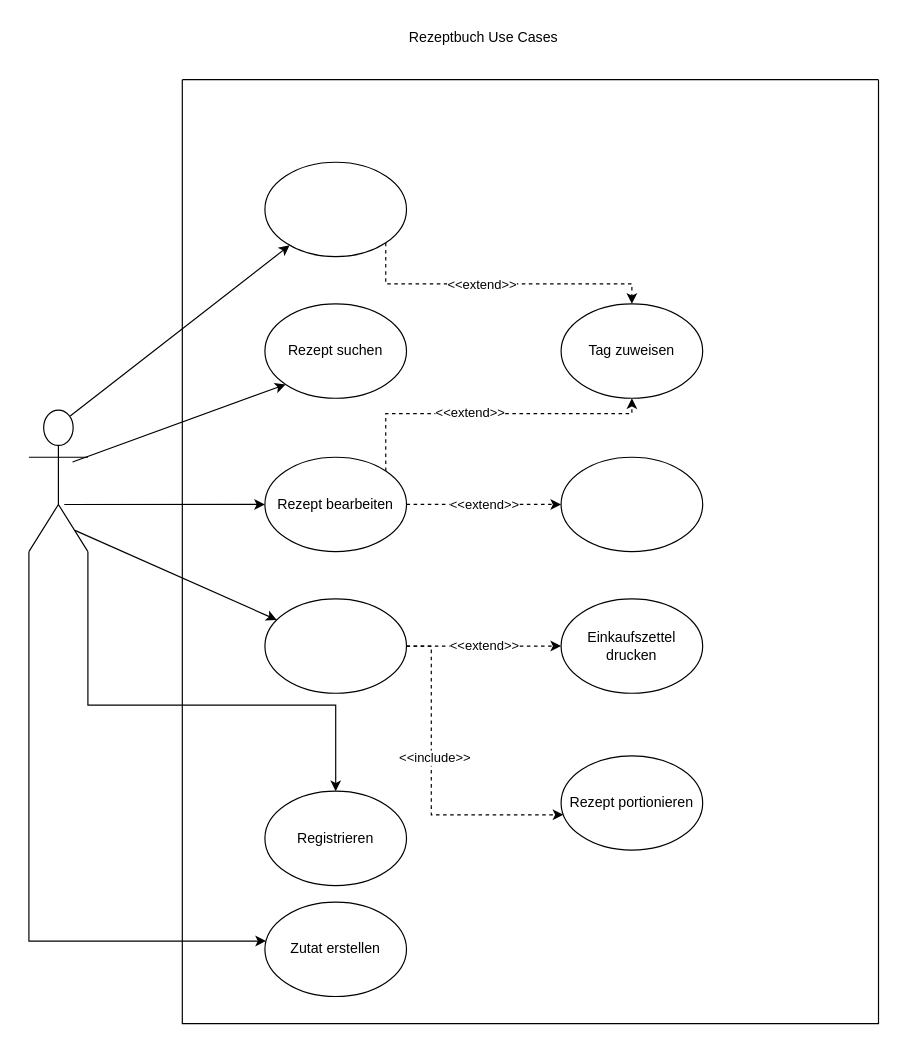
Some shapes in this 899 by 1044 pixel diagram are drawn without their labels. Each missing label, with the centre of its shape:
Actor: (58,480)
Einkaufszettel erstellen: (335,645)
Rezept erstellen: (335,209)
Rezept löschen: (631,504)
